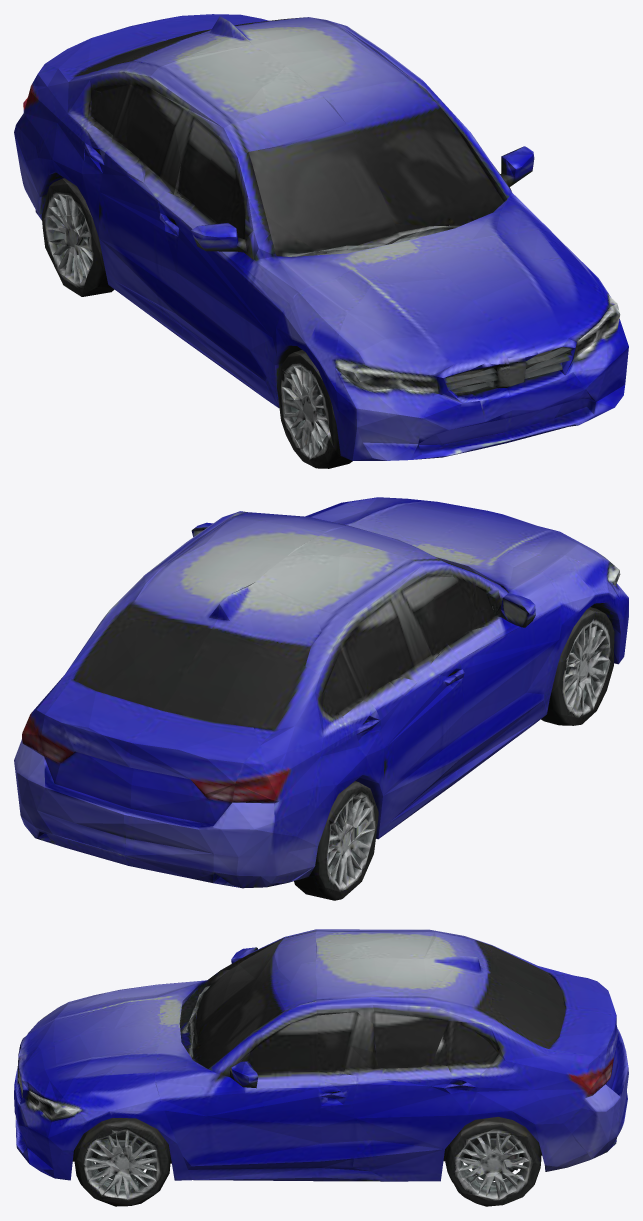
Rendered from limousine.glb.
3 views of the same model, one above another, from view 1: azimuth 30°, elevation 25°; view 2: azimuth 150°, elevation 25°; view 3: azimuth 270°, elevation 25° (orthographic). The views are drawn at different scales.
Visible parts, largest first — view 1: koerper; view 2: koerper; view 3: koerper.
Part boxes in pixels (<box>): koerper: <box>14,14,628,468</box>; koerper: <box>14,497,628,900</box>; koerper: <box>14,929,628,1206</box>.
Size of the model in its own units: 2.39 by 1.71 by 4.79.
1 material, 1 textured.
